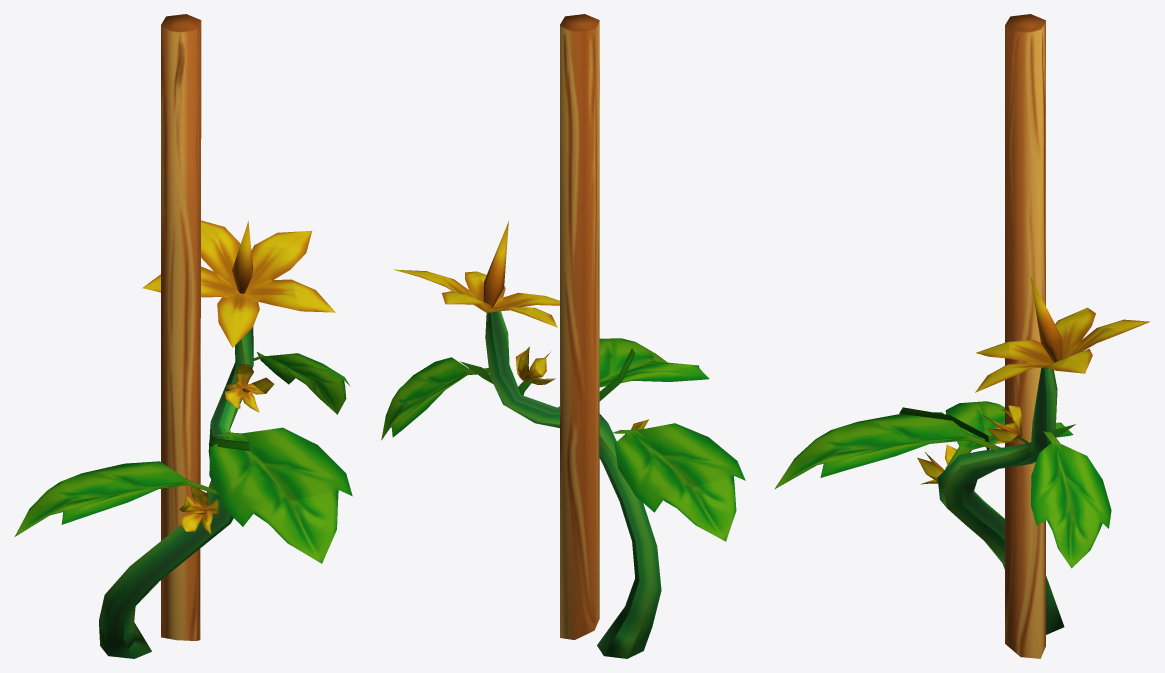
Rendered from level_2.glb.
3 views of the same model, side by side, from view 1: azimuth 30°, elevation 25°; view 2: azimuth 150°, elevation 25°; view 3: azimuth 270°, elevation 25° (orthographic). The views are drawn at different scales.
Visible parts, largest first — view 1: SM_Tomato_Lv2_Tomato_SG_0.001; view 2: SM_Tomato_Lv2_Tomato_SG_0.001; view 3: SM_Tomato_Lv2_Tomato_SG_0.001.
Boxes of the visible parts, x1,y1,x2,y2 form: SM_Tomato_Lv2_Tomato_SG_0.001: (14,14,352,658); SM_Tomato_Lv2_Tomato_SG_0.001: (381,14,745,658); SM_Tomato_Lv2_Tomato_SG_0.001: (774,14,1149,658).
Size of the model in its own units: 22.48 by 39.52 by 21.43.
Materials: 1 (1 with a texture image).
